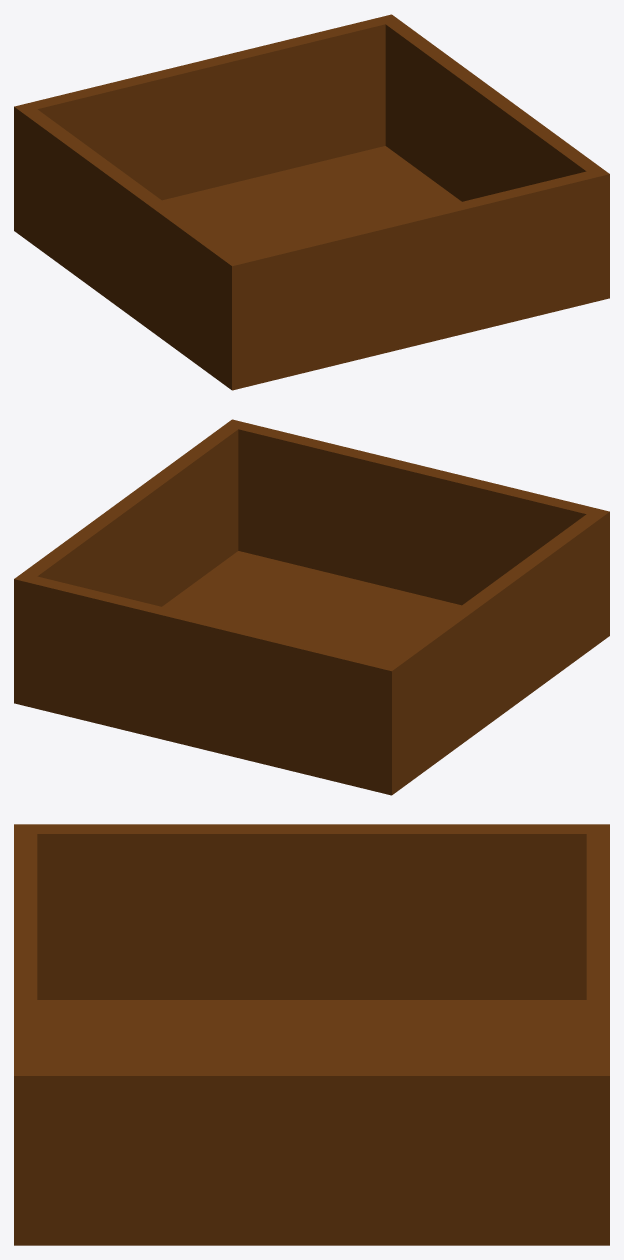
File: bowl.glb
3 renders of one model, top to bottom at view 1: azimuth 30°, elevation 25°; view 2: azimuth 150°, elevation 25°; view 3: azimuth 270°, elevation 25°, orthographic. The views are drawn at different scales.
Visible parts, largest first — view 1: bowl2; view 2: bowl2; view 3: bowl2.
Part boxes in pixels (x1=…): bowl2: x1=14, y1=14, x2=609, y2=390; bowl2: x1=14, y1=419, x2=609, y2=795; bowl2: x1=14, y1=824, x2=609, y2=1245.
Bounding box in the file's own units: 4 × 1.26 × 4.
